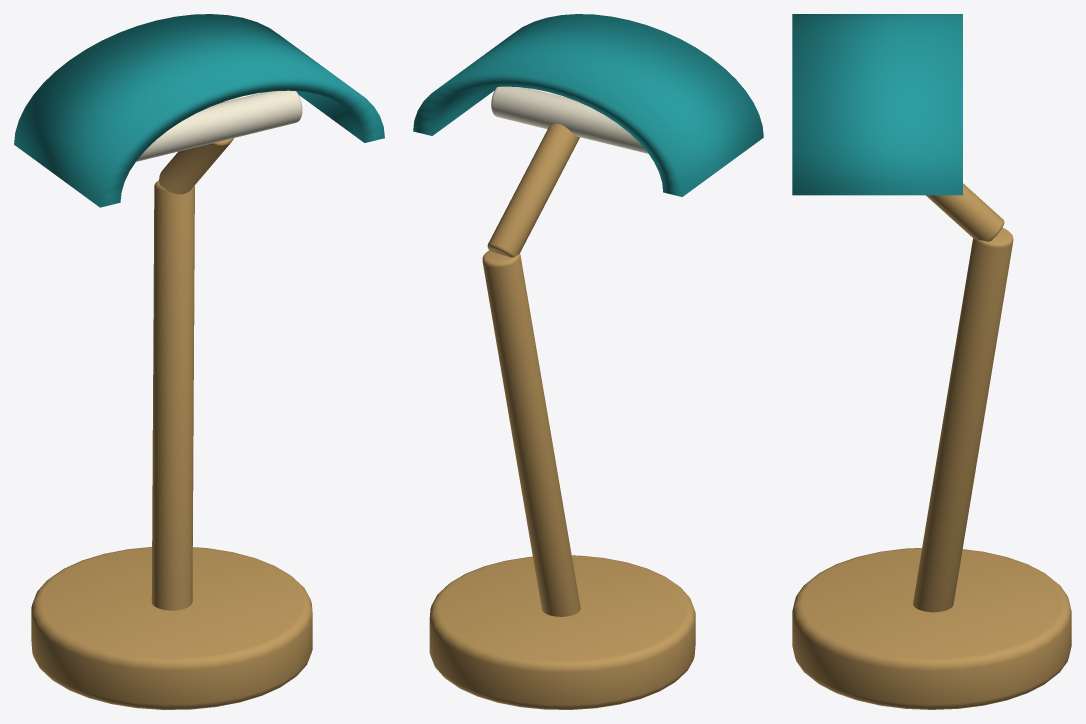
File: DeskLamp.fbx
3 views of the same model, side by side, from view 1: azimuth 30°, elevation 25°; view 2: azimuth 150°, elevation 25°; view 3: azimuth 270°, elevation 25° (orthographic). The views are drawn at different scales.
Parts seen in each view (by area): view 1: DeskLamp.001; view 2: DeskLamp.001; view 3: DeskLamp.001.
Part boxes in pixels (box(x1,y1,x2,y2)): DeskLamp.001: box(14, 14, 384, 709); DeskLamp.001: box(413, 14, 763, 709); DeskLamp.001: box(792, 14, 1071, 709).
Size of the model in its own units: 0.21 by 0.438 by 0.18.
